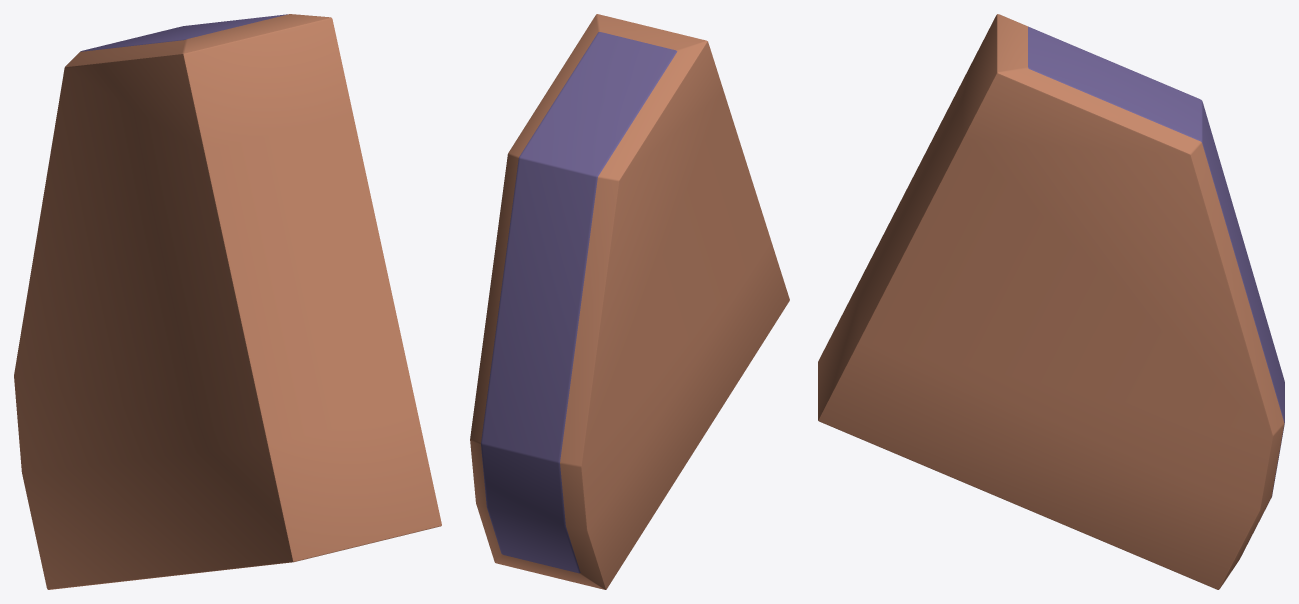
Rendered from small part of wall.FBX.
The picture shows the model from 3 angles, left to right: view 1: azimuth 30°, elevation 25°; view 2: azimuth 150°, elevation 25°; view 3: azimuth 270°, elevation 25°; orthographic projection. The views are drawn at different scales.
Visible parts, largest first — view 1: Box042; view 2: Box042; view 3: Box042.
Boxes of the visible parts, x1,y1,x2,y2 form: Box042: [14, 14, 441, 589]; Box042: [470, 14, 789, 589]; Box042: [818, 14, 1284, 589].
Size of the model in its own units: 111 by 450 by 368.
